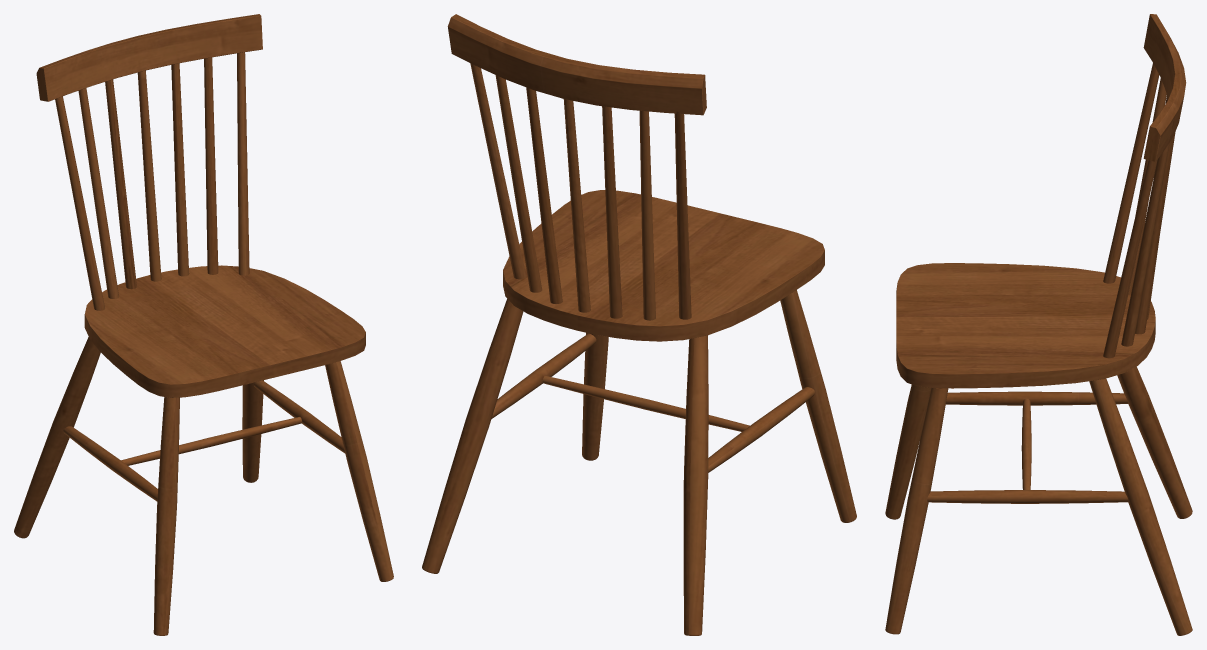
Rendered from chair_10.001.fbx.
3 renders of one model, left to right at view 1: azimuth 30°, elevation 25°; view 2: azimuth 150°, elevation 25°; view 3: azimuth 270°, elevation 25°, orthographic. The views are drawn at different scales.
Parts seen in each view (by area): view 1: chair_10.001; view 2: chair_10.001; view 3: chair_10.001.
Boxes of the visible parts, <box> form: chair_10.001: <box>14,14,393,635</box>; chair_10.001: <box>422,14,856,635</box>; chair_10.001: <box>885,14,1192,635</box>.
Bounding box in the file's own units: 46.66 × 87.82 × 48.33.
1 material, 1 textured.
